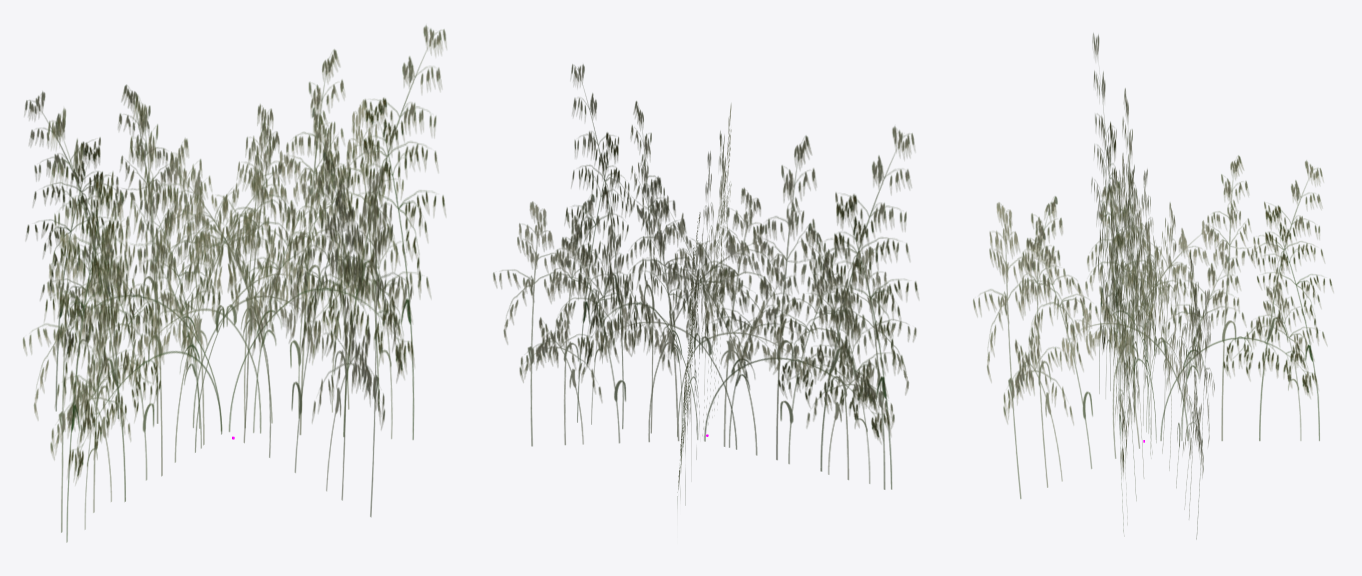
The model's file is mveg3.glb.
3 renders of one model, left to right at view 1: azimuth 30°, elevation 25°; view 2: azimuth 150°, elevation 25°; view 3: azimuth 270°, elevation 25°, orthographic. The views are drawn at different scales.
Parts seen in each view (by area): view 1: 01 Mesh0; view 2: 01 Mesh0; view 3: 01 Mesh0.
Boxes of the visible parts, box(x1,y1,x2,y2) form: 01 Mesh0: box(23, 25, 446, 542); 01 Mesh0: box(493, 64, 918, 505); 01 Mesh0: box(973, 33, 1333, 539).
Bounding box in the file's own units: 3.64 × 3.51 × 3.33.
Materials: 2 (1 with a texture image).
